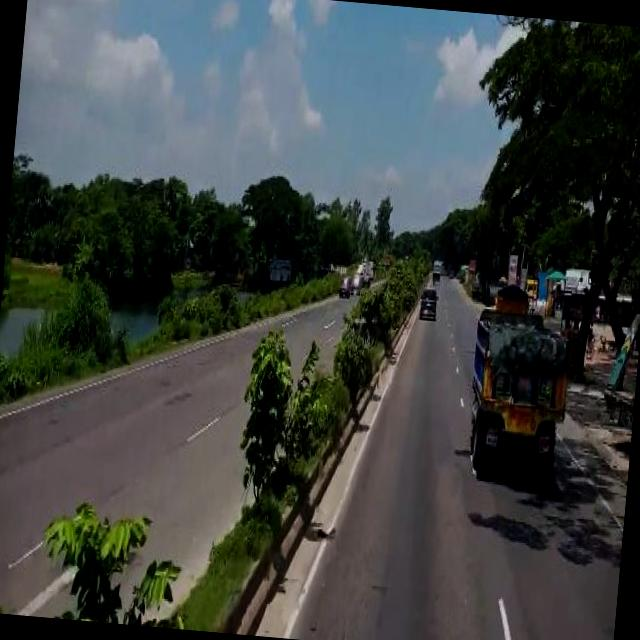truck: (464, 274, 578, 490), (418, 284, 442, 321)
